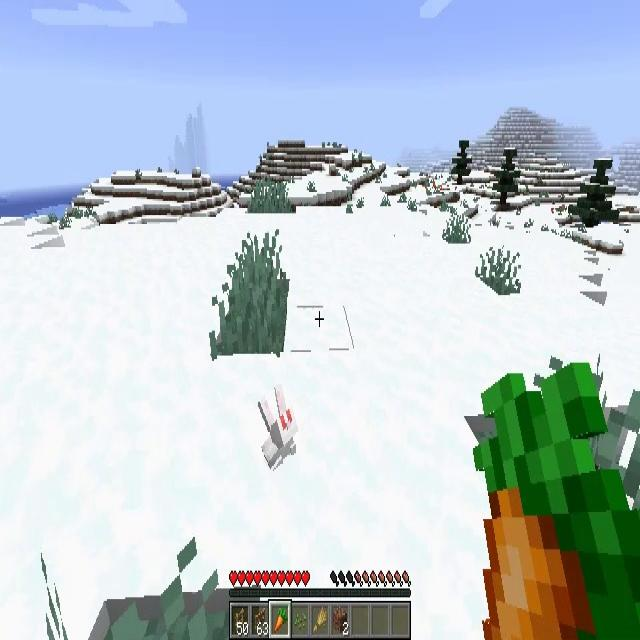rabbit: (258, 383, 298, 473)
